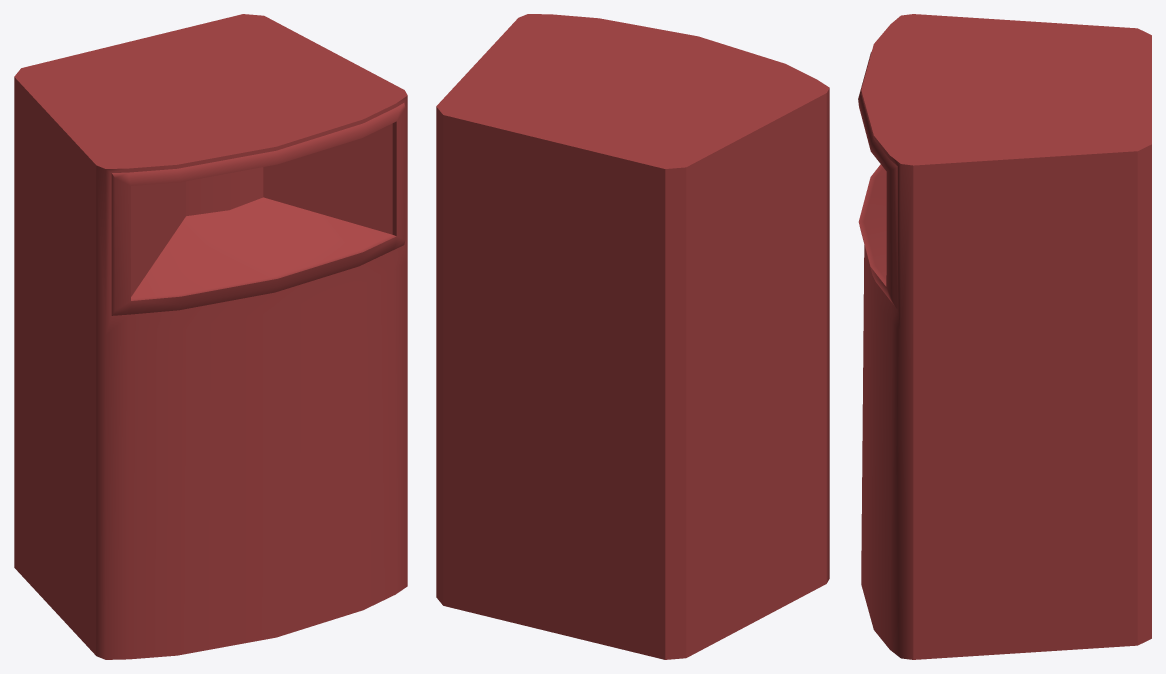
File: Parlante.fbx
3 views of the same model, side by side, from view 1: azimuth 30°, elevation 25°; view 2: azimuth 150°, elevation 25°; view 3: azimuth 270°, elevation 25° (orthographic).
Parts seen in each view (by area): view 1: Parlante; view 2: Parlante; view 3: Parlante.
Boxes of the visible parts, x1=… form: Parlante: x1=14, y1=14, x2=407, y2=659; Parlante: x1=436, y1=14, x2=829, y2=659; Parlante: x1=858, y1=14, x2=1151, y2=659.
Size of the model in its own units: 0.1972 by 0.3 by 0.1616.
